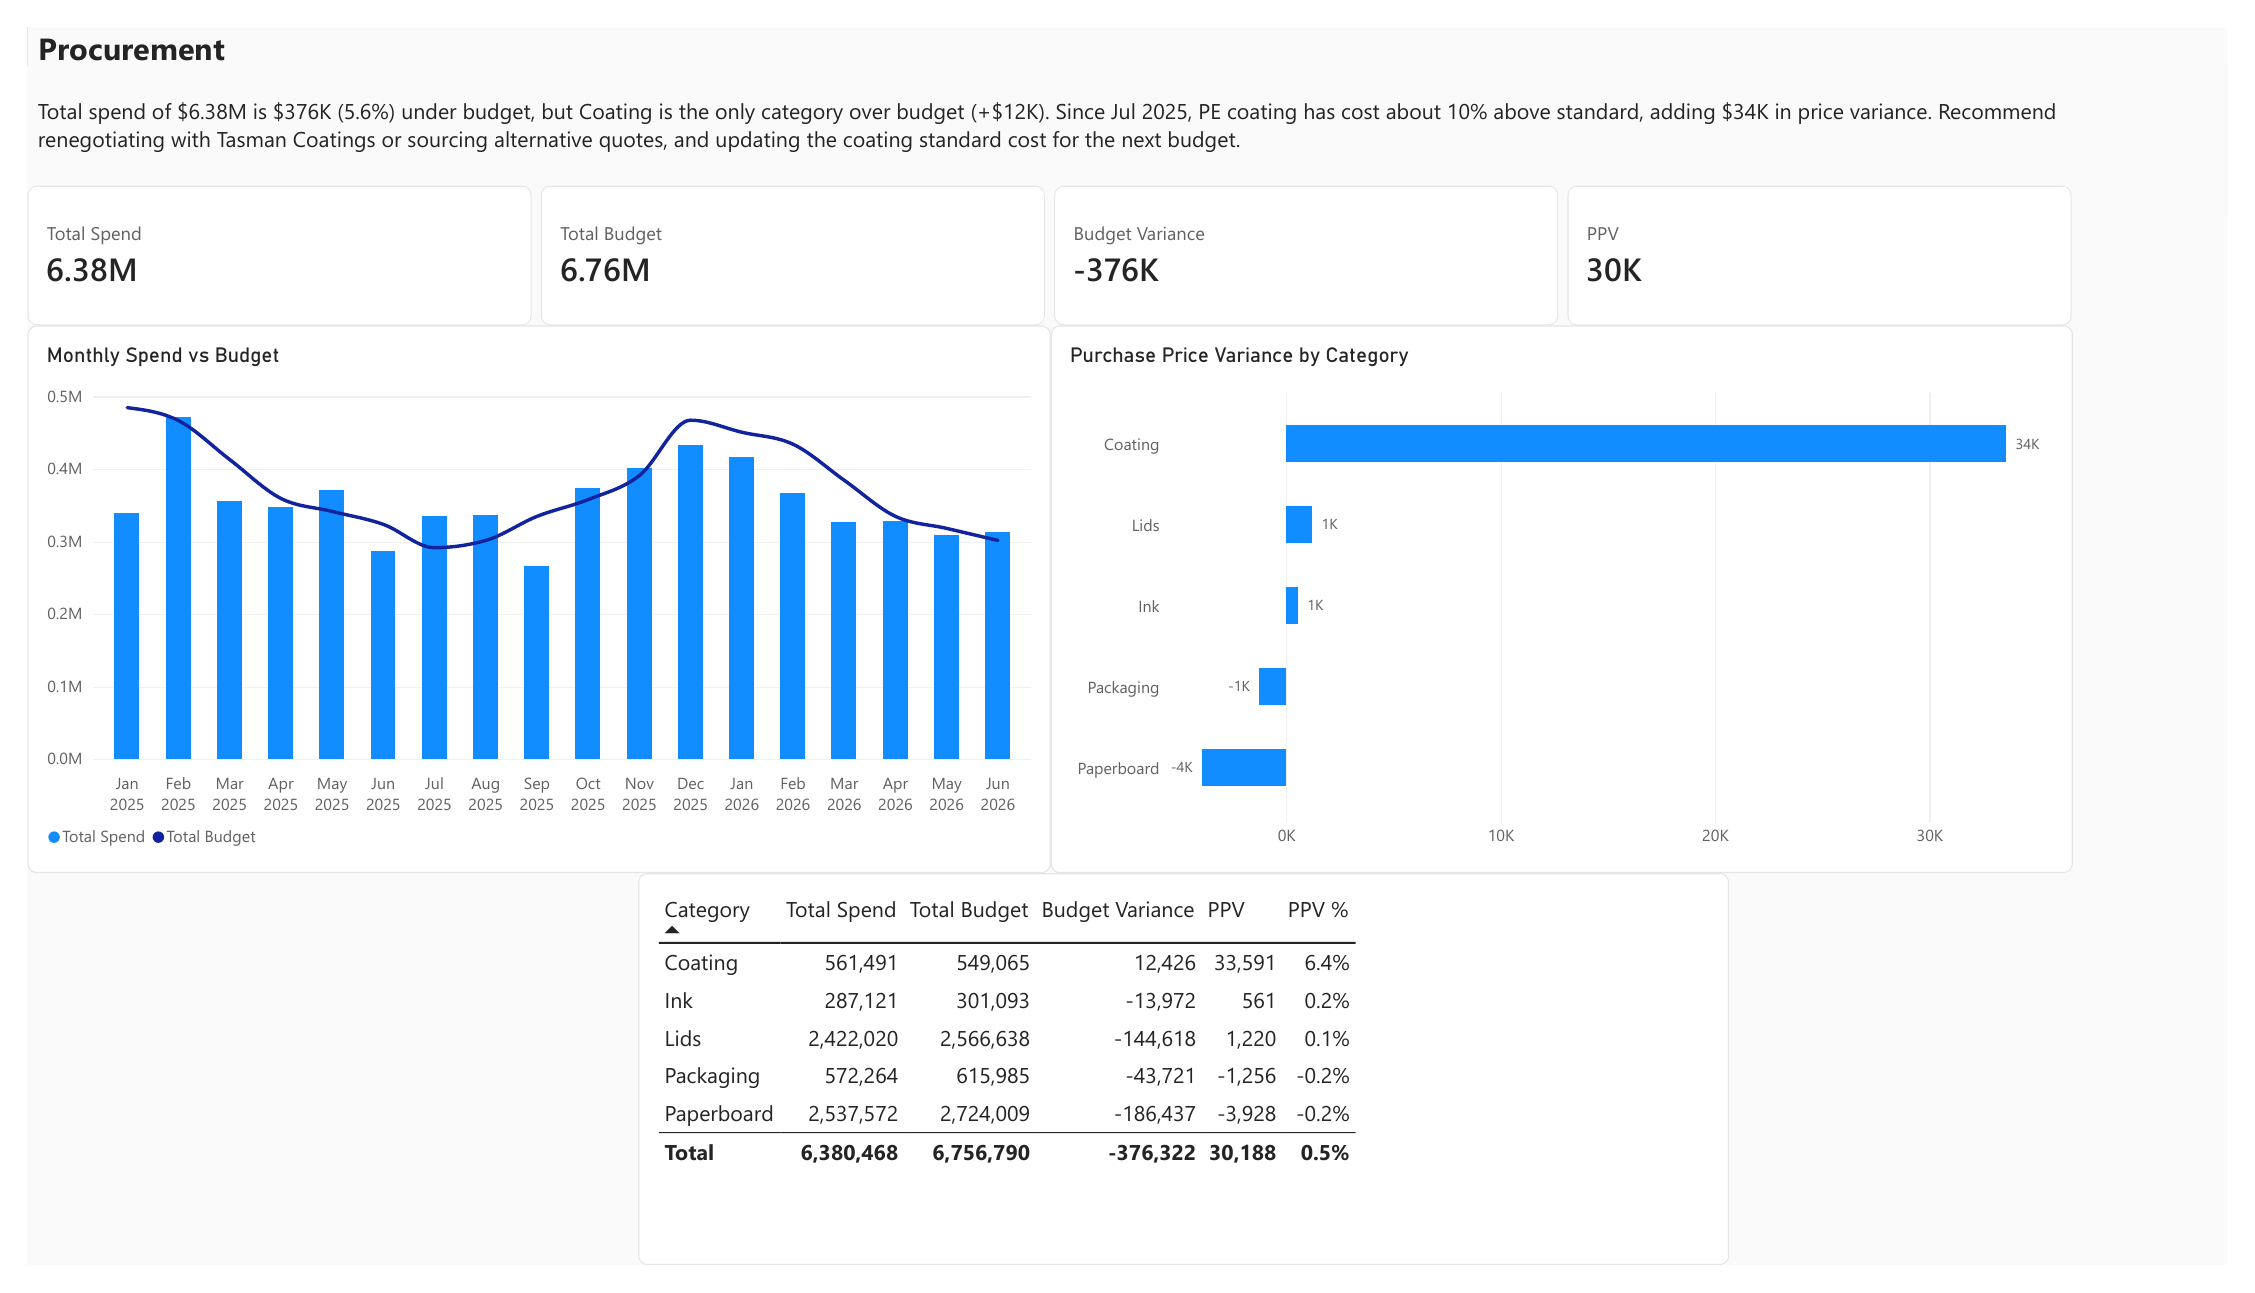

This screenshot's page, from the dashboard's own definition file:
{"tool":"powerbi","page":{"name":"Procurement","canvas":[1920,1080],"ordinal":3},"visuals":[{"type":"textbox","box":[10,0,280,60],"z":0},{"type":"cardVisual","fields":{"Data":["_Measures.Total Spend","_Measures.Total Budget","_Measures.Budget Variance","_Measures.PPV"]},"box":[0,137.5,1784,122],"z":1000},{"type":"textbox","box":[225,856.7,960,178.3],"z":5000},{"type":"textbox","box":[9.3,60.5,1776.7,62.8],"z":6000},{"type":"lineClusteredColumnComboChart","title":"Monthly Spend vs Budget","fields":{"Category":["dim_date.Year Month"],"Y":["_Measures.Total Spend"],"Y2":["_Measures.Total Budget"]},"box":[0,260,892.5,477.5],"z":6001},{"type":"clusteredBarChart","title":"Purchase Price Variance by Category","fields":{"Category":["dim_category.category_name"],"Y":["_Measures.PPV"]},"box":[892.5,260,892.5,477.5],"z":6002},{"type":"tableEx","fields":{"Values":["dim_category.category_name","_Measures.Total Spend","_Measures.Total Budget","_Measures.Budget Variance","_Measures.PPV","_Measures.PPV %"]},"box":[532.5,737.5,952.5,342.5],"z":6003}]}

Visuals, with their boxes in screenshot pixels (x1, y1, x2, y2), scaled from the page's 1920x1080 canvas onto the 2255x1293 screenshot:
textbox: bbox(12, 0, 341, 72)
cardVisual - _Measures.Total Spend x _Measures.Total Budget: bbox(0, 165, 2095, 311)
textbox: bbox(264, 1026, 1392, 1239)
textbox: bbox(11, 72, 2098, 148)
"Monthly Spend vs Budget" lineClusteredColumnComboChart: bbox(0, 311, 1048, 883)
"Purchase Price Variance by Category" clusteredBarChart: bbox(1048, 311, 2096, 883)
tableEx - dim_category.category_name x _Measures.Total Spend: bbox(625, 883, 1744, 1292)
